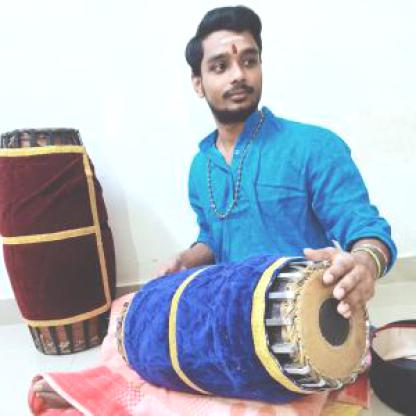Mridangam: (111, 252, 383, 405)
